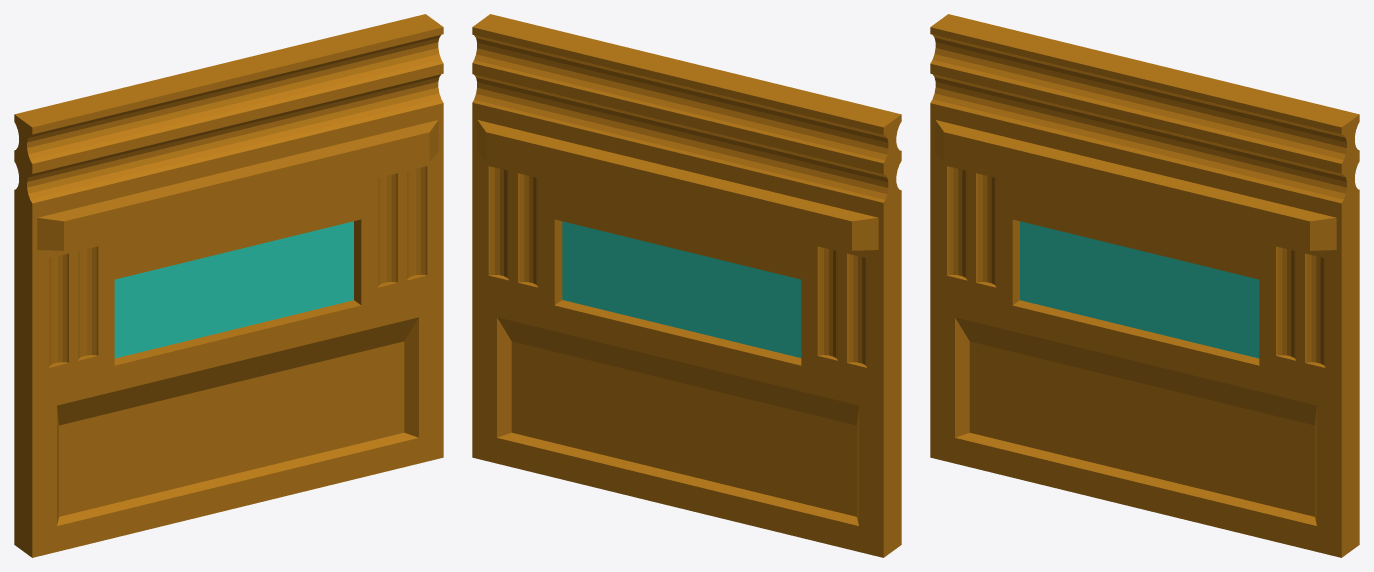
The model's file is stone_wall_window_4x4.fbx.
3 views of the same model, side by side, from view 1: azimuth 30°, elevation 25°; view 2: azimuth 150°, elevation 25°; view 3: azimuth 330°, elevation 25° (orthographic).
Visible parts, largest first — view 1: stone_wall_window_4x4; view 2: stone_wall_window_4x4; view 3: stone_wall_window_4x4.
Boxes of the visible parts, x1,y1,x2,y2 form: stone_wall_window_4x4: [14, 14, 443, 557]; stone_wall_window_4x4: [472, 14, 901, 557]; stone_wall_window_4x4: [930, 14, 1359, 557].
Size of the model in its own units: 18.2 by 18.2 by 2.76.
